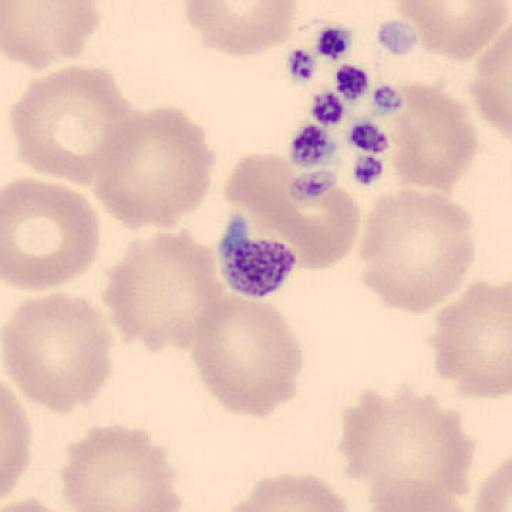Platelet: (218, 228, 298, 300)
RBC: (338, 384, 476, 512), (225, 150, 361, 272), (90, 104, 216, 232), (105, 228, 228, 355), (358, 187, 476, 317), (189, 290, 306, 420), (11, 64, 134, 186), (2, 292, 116, 416), (2, 176, 102, 292), (59, 423, 180, 512), (387, 80, 479, 192), (432, 277, 512, 400), (270, 168, 361, 271), (390, 0, 512, 62), (1, 1, 101, 70), (183, 0, 299, 58), (220, 472, 353, 511), (471, 24, 512, 142), (367, 474, 475, 512), (1, 380, 32, 506), (473, 456, 512, 511), (0, 495, 87, 512)
